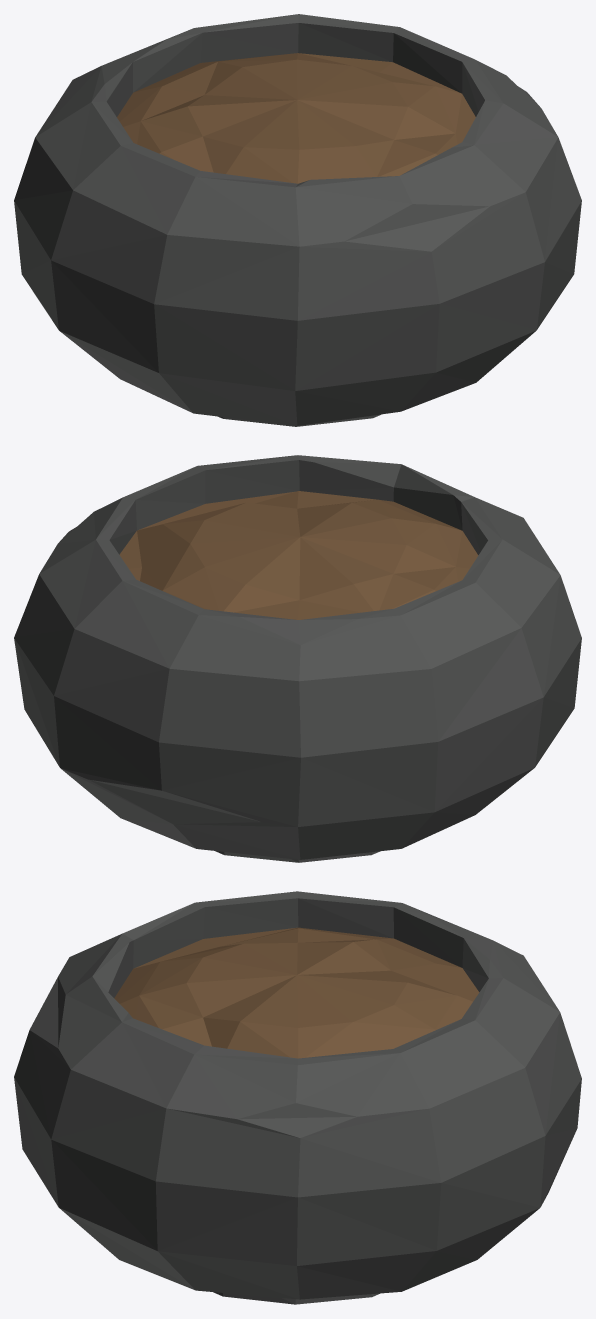
The model's file is SFHW_Vassel_013.fbx.
3 renders of one model, top to bottom at view 1: azimuth 30°, elevation 25°; view 2: azimuth 150°, elevation 25°; view 3: azimuth 270°, elevation 25°, orthographic.
Visible parts, largest first — view 1: SFHW_Vassel_013; view 2: SFHW_Vassel_013; view 3: SFHW_Vassel_013.
Part boxes in pixels (x1,y1,x2,y2): SFHW_Vassel_013: (14, 14, 581, 426); SFHW_Vassel_013: (14, 455, 581, 862); SFHW_Vassel_013: (14, 891, 581, 1304).
Bounding box in the file's own units: 39.65 × 20.51 × 39.47.
